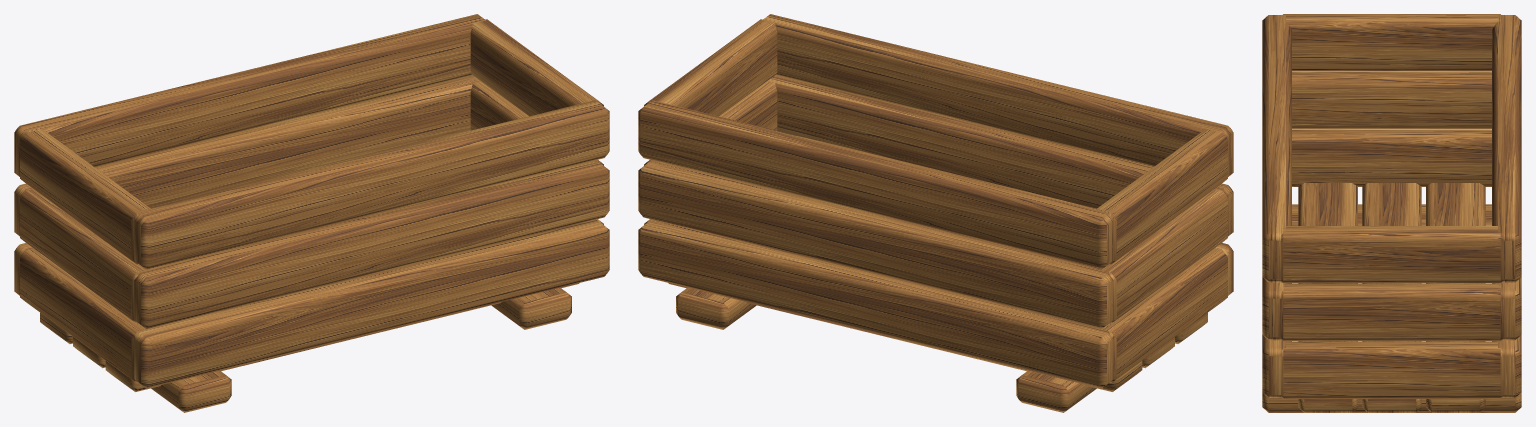
The model's file is 30_Jardinera.obj.
3 views of the same model, side by side, from view 1: azimuth 30°, elevation 25°; view 2: azimuth 150°, elevation 25°; view 3: azimuth 270°, elevation 25° (orthographic). The views are drawn at different scales.
Parts seen in each view (by area): view 1: 30_Jardinera_Wood; view 2: 30_Jardinera_Wood; view 3: 30_Jardinera_Wood.
Boxes of the visible parts, x1,y1,x2,y2 form: 30_Jardinera_Wood: [14, 14, 609, 412]; 30_Jardinera_Wood: [638, 14, 1233, 412]; 30_Jardinera_Wood: [1262, 14, 1521, 412].
Size of the model in its own units: 1.25 by 0.515 by 0.61.
1 material, 1 textured.
